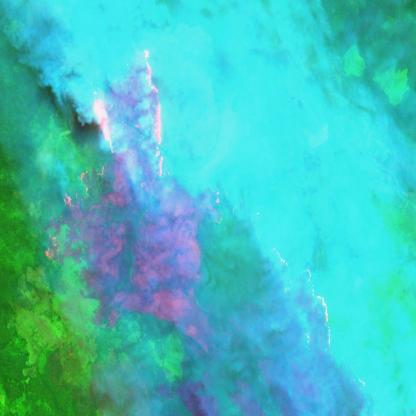fire: (42, 37, 170, 269), (263, 240, 368, 416)
